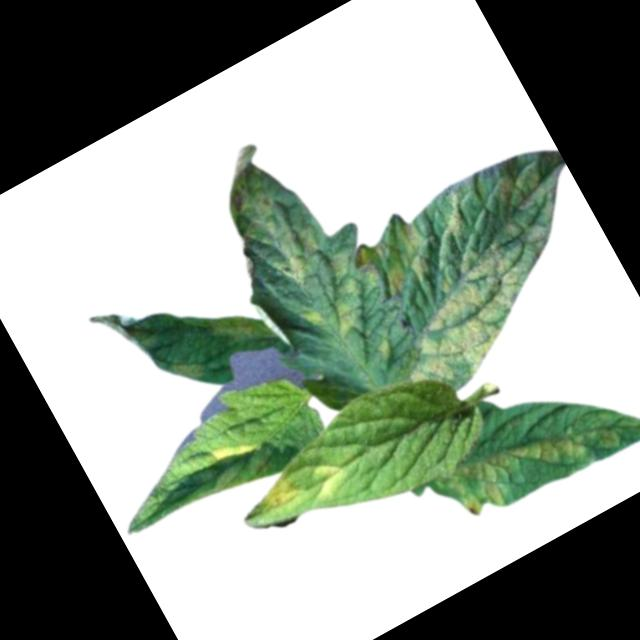Leaf_Mold: (340, 135, 633, 406), (188, 117, 401, 367), (444, 389, 628, 530), (256, 466, 312, 518), (302, 456, 354, 507), (168, 348, 213, 390), (209, 428, 258, 466)
